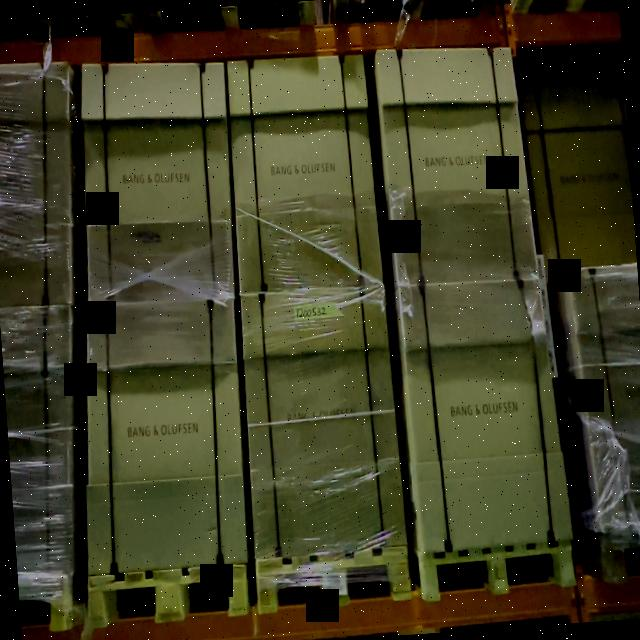box: (400, 278, 573, 554), (88, 296, 248, 576), (240, 286, 403, 552), (226, 52, 385, 296), (377, 47, 539, 279), (85, 61, 235, 303)
